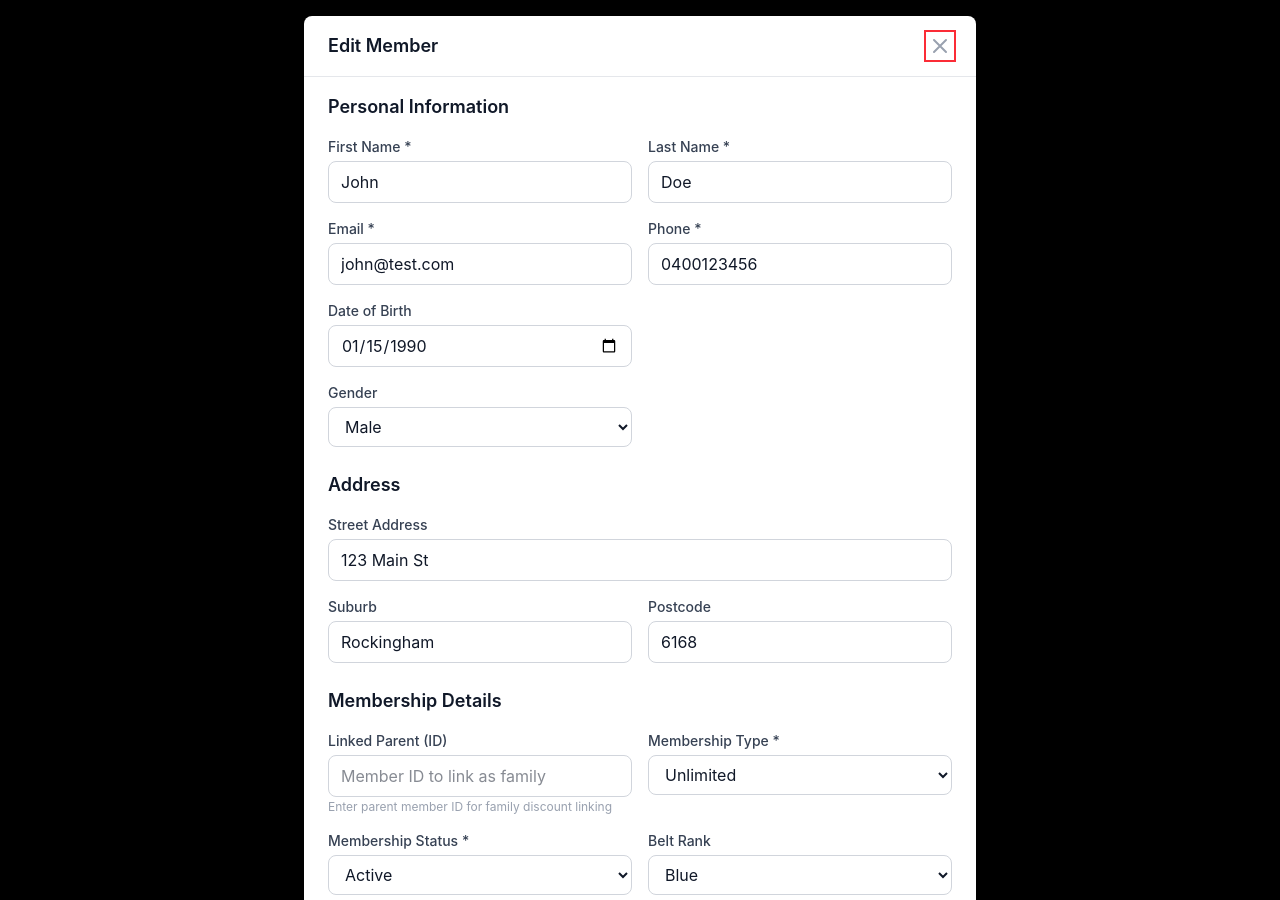
Scenario: EditMemberModal › validates membership type is required
The image size is (1280, 900).
Select "Select Type" in the dropdown named "membership_type" below "Membership Type *" at (800,775), box [648, 755, 952, 795]
(page scrolled)
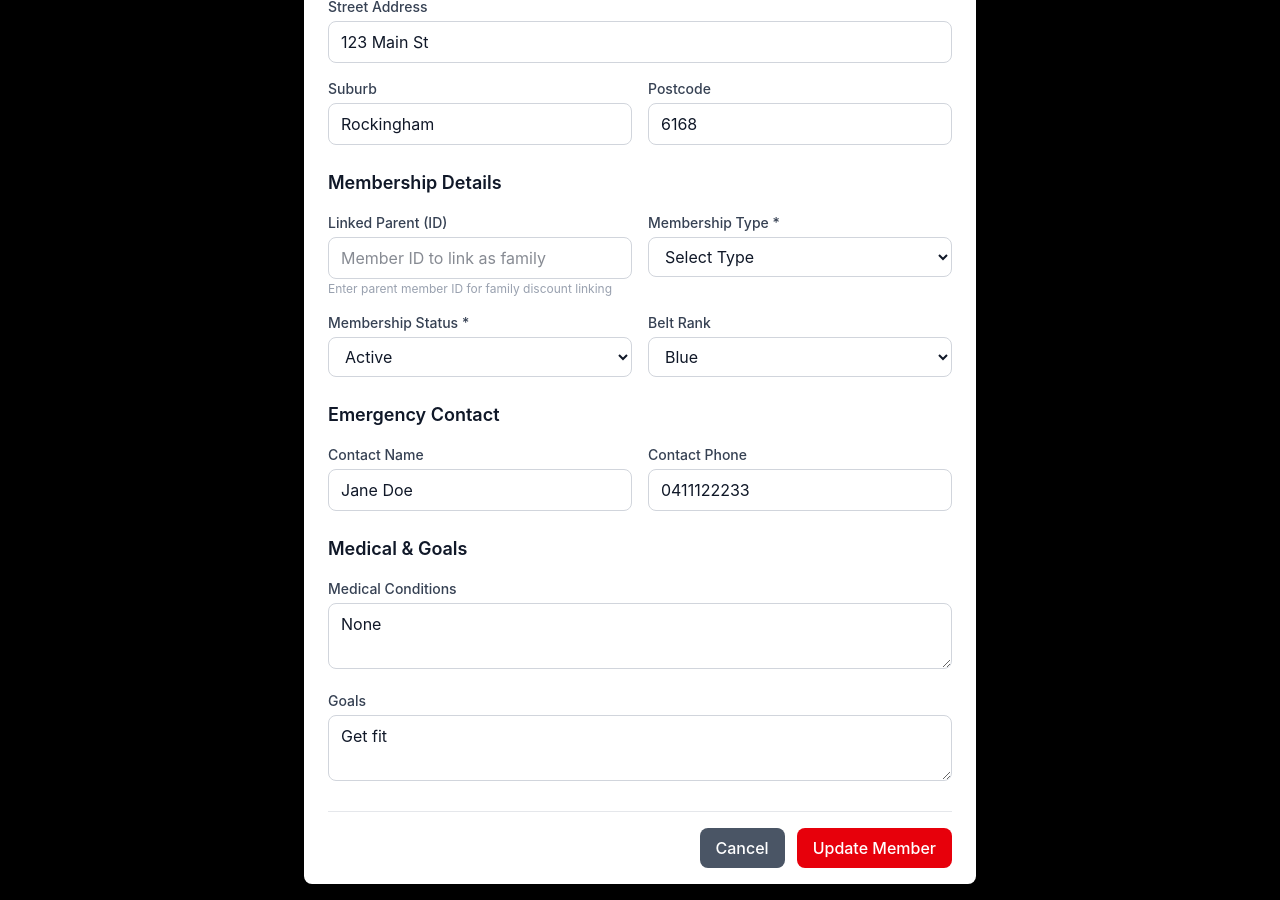
Click the button "Update Member" at (874,848), box [797, 828, 952, 868]
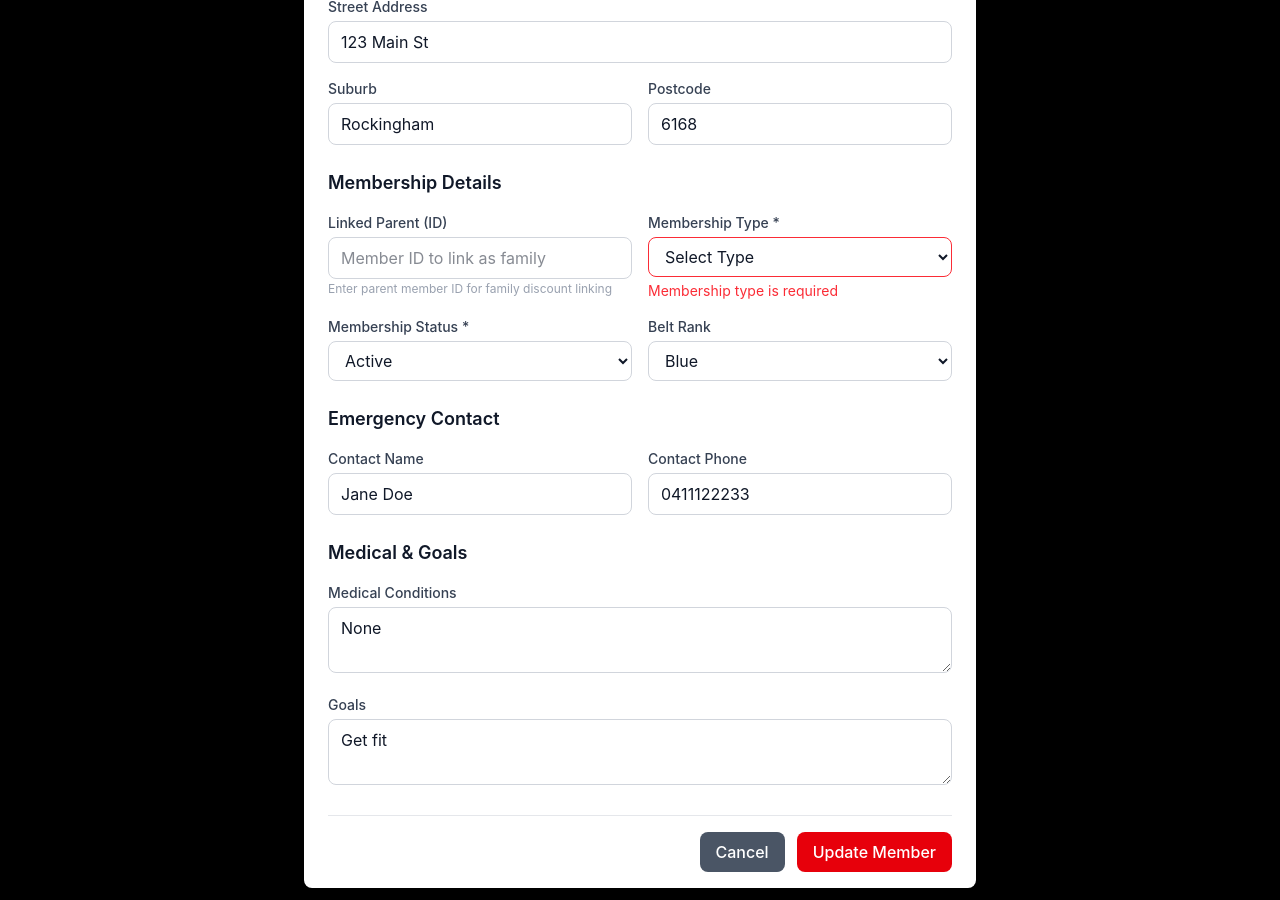
expect the text "Membership type is required" is shown: met, box [648, 282, 838, 299]
